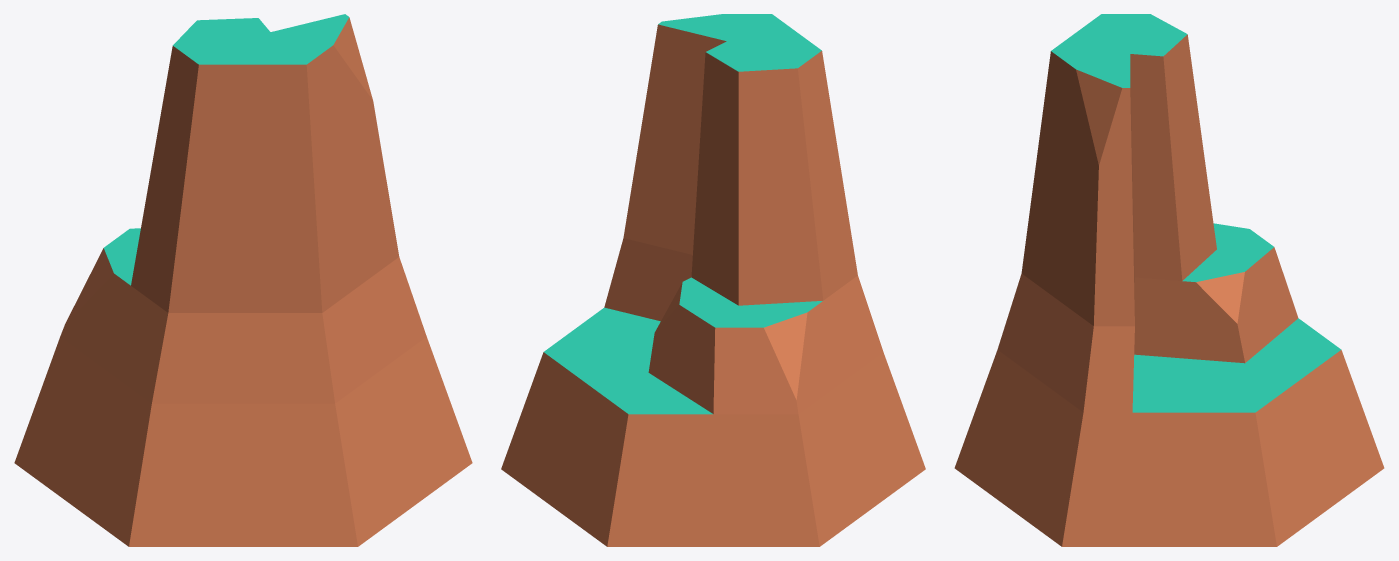
Rendered from rock_tallH.glb.
3 renders of one model, left to right at view 1: azimuth 30°, elevation 25°; view 2: azimuth 150°, elevation 25°; view 3: azimuth 270°, elevation 25°, orthographic. The views are drawn at different scales.
Visible parts, largest first — view 1: rock_tallH; view 2: rock_tallH; view 3: rock_tallH.
Boxes of the visible parts, left/top/right/bottom form: rock_tallH: left=14, top=14, right=472, bottom=546; rock_tallH: left=501, top=14, right=925, bottom=546; rock_tallH: left=954, top=14, right=1384, bottom=546.
Size of the model in its own units: 0.5749 by 0.7108 by 0.6639.
